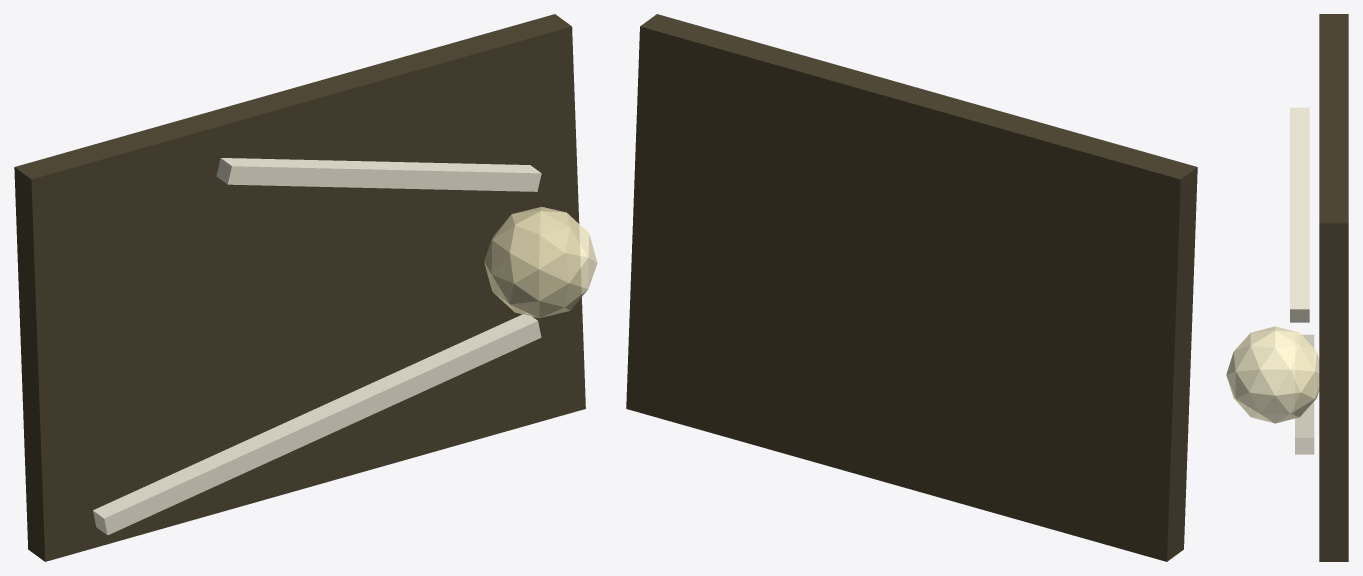
Rendered from 02_world_prop_polish.glb.
The picture shows the model from 3 angles, left to right: view 1: azimuth 30°, elevation 25°; view 2: azimuth 150°, elevation 25°; view 3: azimuth 270°, elevation 25°; orthographic projection. The views are drawn at different scales.
Visible parts, largest first — view 1: object_overlay_plate, edge_wear_a, glow_socket, edge_wear_b; view 2: object_overlay_plate; view 3: object_overlay_plate, glow_socket, edge_wear_b, edge_wear_a.
Part boxes in pixels (<box>): object_overlay_plate: <box>14,14,585,561</box>; edge_wear_a: <box>93,313,541,535</box>; glow_socket: <box>484,207,597,318</box>; edge_wear_b: <box>216,158,541,191</box>; object_overlay_plate: <box>626,14,1197,561</box>; object_overlay_plate: <box>1319,14,1348,561</box>; glow_socket: <box>1226,326,1319,423</box>; edge_wear_b: <box>1290,107,1309,322</box>; edge_wear_a: <box>1295,334,1314,454</box>.
Bounding box in the file's own units: 1.13 × 0.7906 × 0.25.
